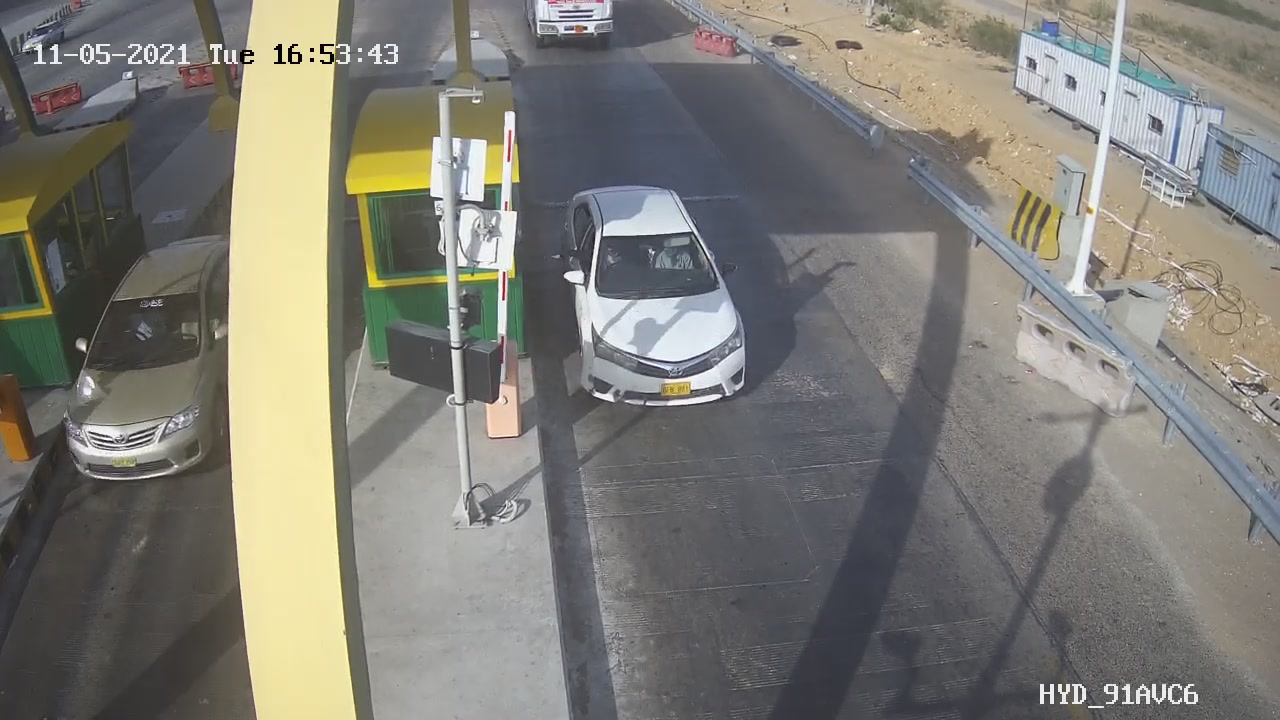F1: (539, 161, 779, 440)
